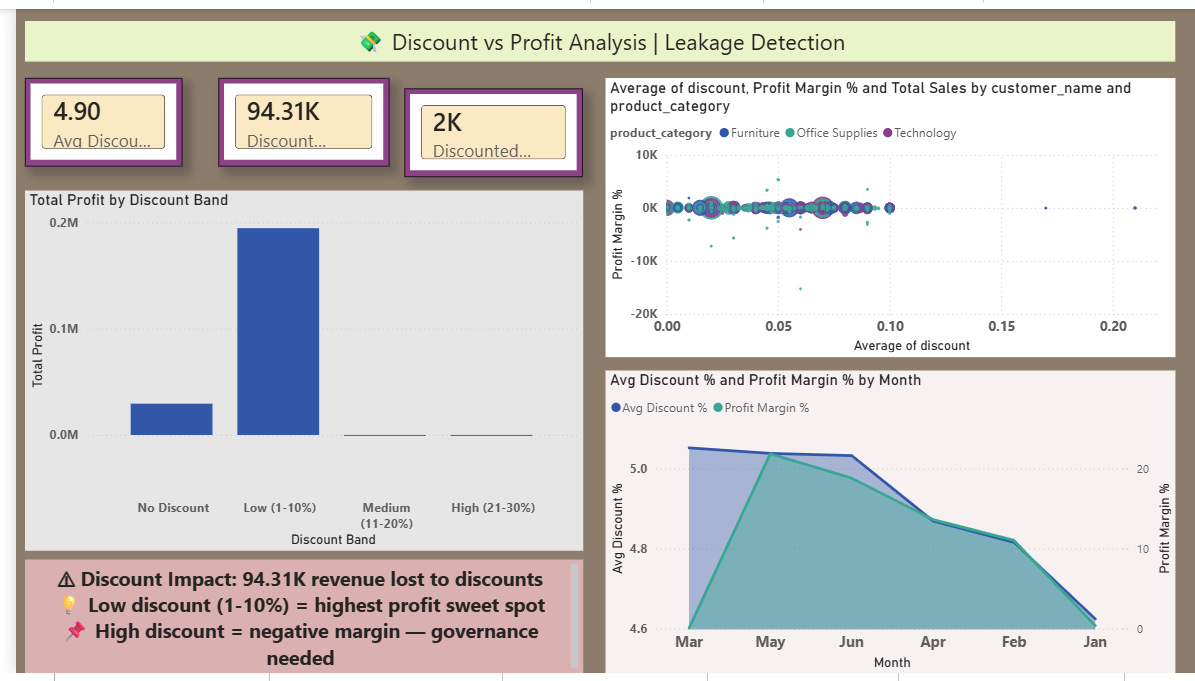

What the dashboard file says about the page in this screenshot:
{"tool":"powerbi","page":{"name":"Discount vs Profit","canvas":[1280,720],"ordinal":2},"visuals":[{"type":"cardVisual","fields":{"Data":["_Measures.Avg Discount %"]},"box":[9.8,74.8,170.8,96],"z":0},{"type":"cardVisual","fields":{"Data":["_Measures.Discount Impact"]},"box":[219.6,74.8,185.4,96],"z":1000},{"type":"scatterChart","fields":{"X":["Avg(SuperStoreUs_data.discount)"],"Series":["SuperStoreUs_data.product_category"],"Size":["_Measures.Total Sales"],"Y":["_Measures.Profit Margin %"],"Category":["SuperStoreUs_data.customer_name"]},"box":[639.2,74.8,618.1,302.5],"z":2000},{"type":"cardVisual","fields":{"Data":["_Measures.Discounted Orders"]},"box":[421.3,86.2,193.6,96],"z":3000},{"type":"clusteredColumnChart","fields":{"Category":["SuperStoreUs_data.Discount Band"],"Y":["_Measures.Total Profit"]},"box":[9.8,196.8,605.1,390.4],"z":4000},{"type":"areaChart","fields":{"Category":["DateTable.Month"],"Y":["_Measures.Avg Discount %"],"Y2":["_Measures.Profit Margin %"]},"box":[639.2,392,618.1,328.6],"z":5000},{"type":"textbox","box":[9.8,596.9,605.1,123.6],"z":6000},{"type":"textbox","box":[9.8,13,1247.6,43.9],"z":6001}]}

Visuals, with their boxes in screenshot pixels (x1, y1, x2, y2), scaled from the page's 1280x720 canvas onto the 1195x681 screenshot:
cardVisual - _Measures.Avg Discount %: x1=9 y1=71 x2=169 y2=162
cardVisual - _Measures.Discount Impact: x1=205 y1=71 x2=378 y2=162
scatterChart - Avg(SuperStoreUs_data.discount) x SuperStoreUs_data.product_category: x1=597 y1=71 x2=1174 y2=357
cardVisual - _Measures.Discounted Orders: x1=393 y1=82 x2=574 y2=172
clusteredColumnChart - SuperStoreUs_data.Discount Band x _Measures.Total Profit: x1=9 y1=186 x2=574 y2=555
areaChart - DateTable.Month x _Measures.Avg Discount %: x1=597 y1=371 x2=1174 y2=680
textbox: x1=9 y1=565 x2=574 y2=680
textbox: x1=9 y1=12 x2=1174 y2=54
